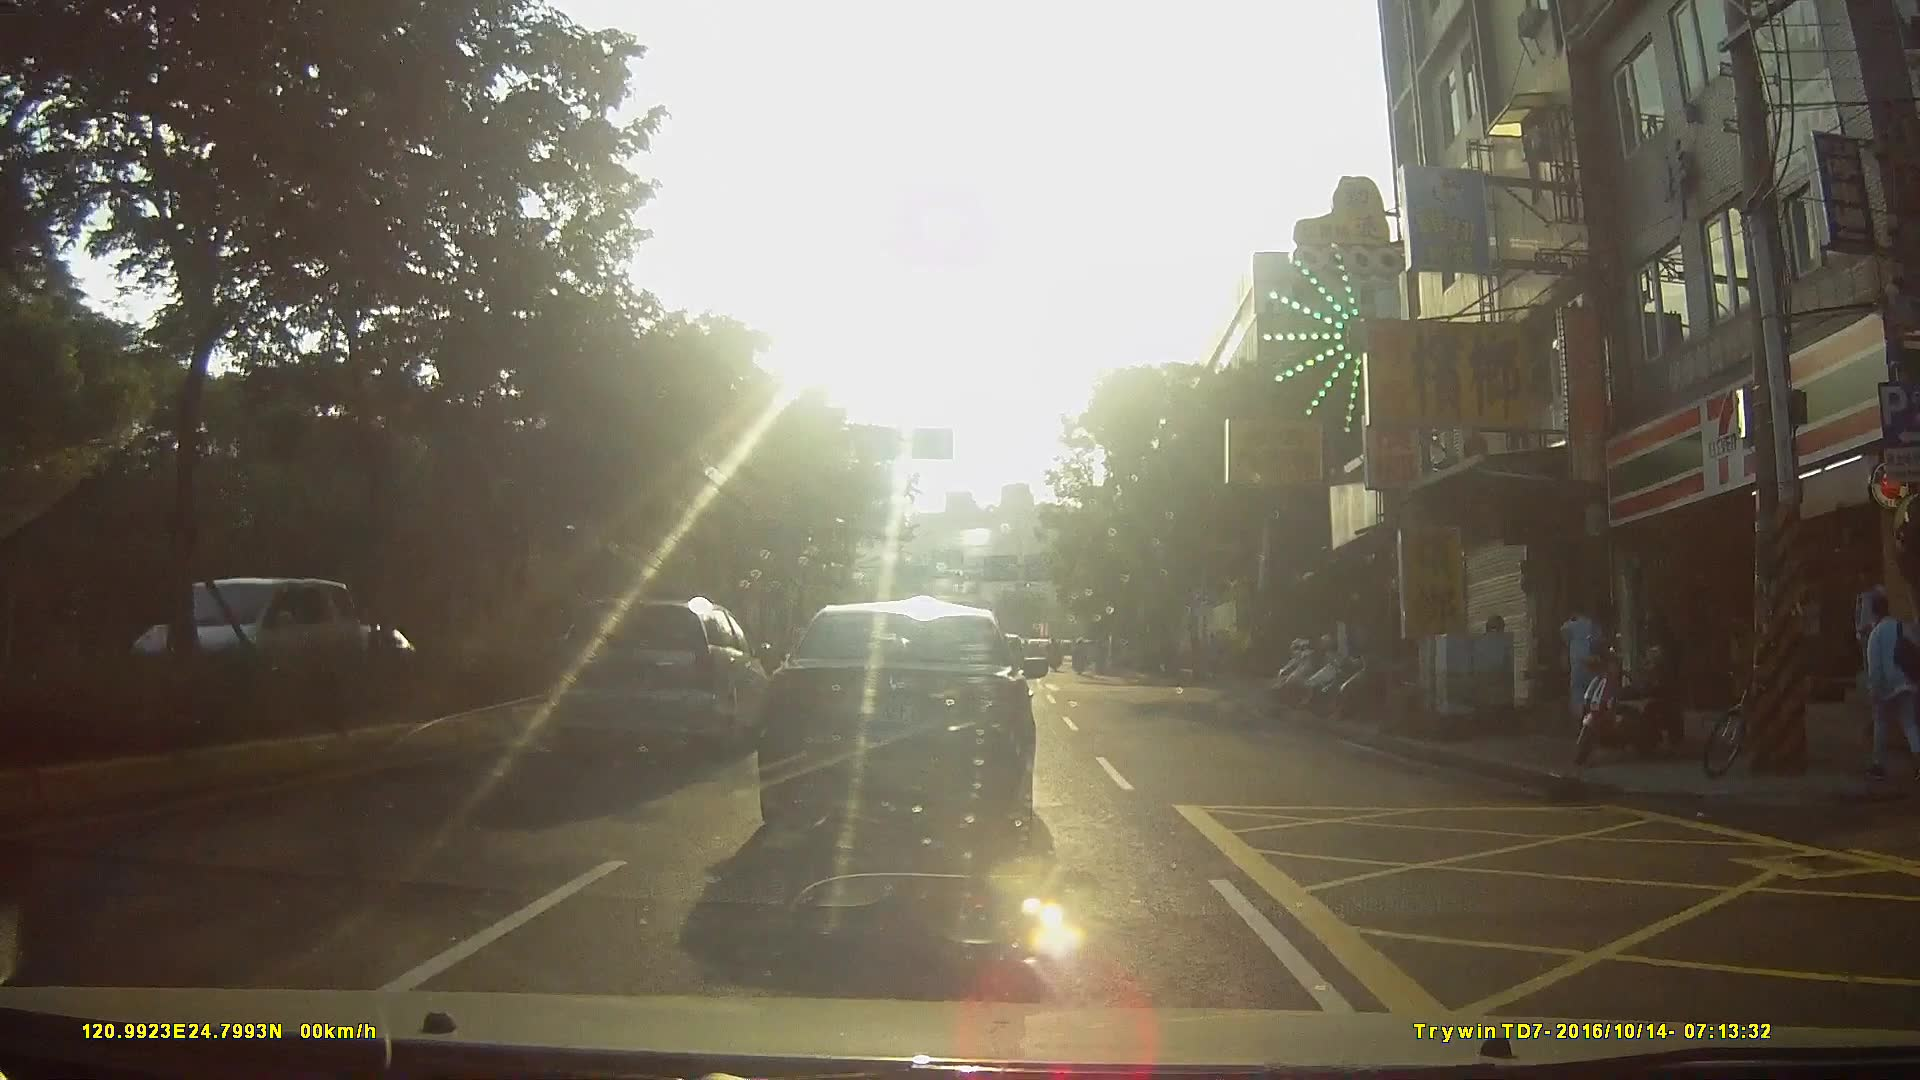pedestrian: (1859, 595, 1920, 780), (1634, 617, 1685, 760), (1552, 600, 1609, 722)
vehicle: (753, 599, 1049, 846), (554, 591, 778, 753), (131, 577, 362, 702)
